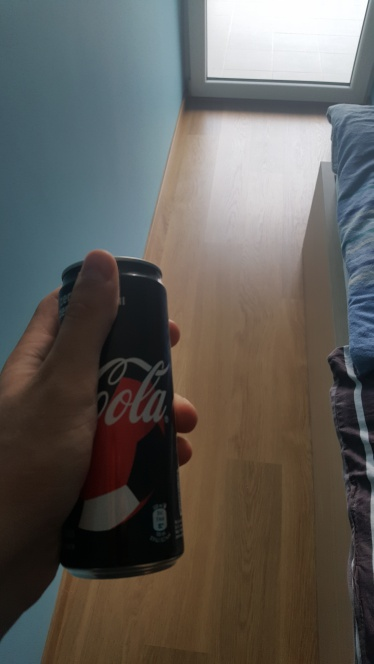colazero: (48, 248, 191, 584)
